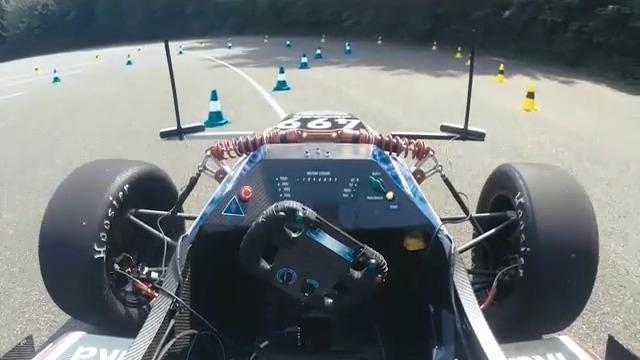blue_cone: (204, 89, 231, 128), (272, 66, 291, 92), (298, 52, 311, 69), (51, 69, 62, 84), (314, 45, 324, 59), (344, 43, 353, 55), (125, 54, 133, 66)
yellow_cone: (519, 85, 538, 112), (493, 63, 509, 83)
